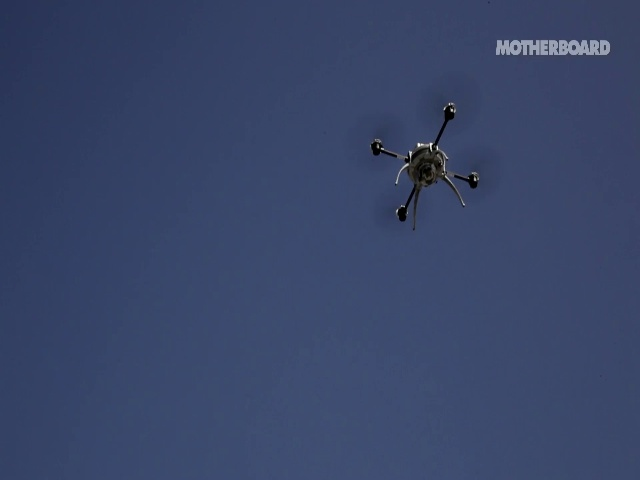drone: (354, 73, 501, 233)
